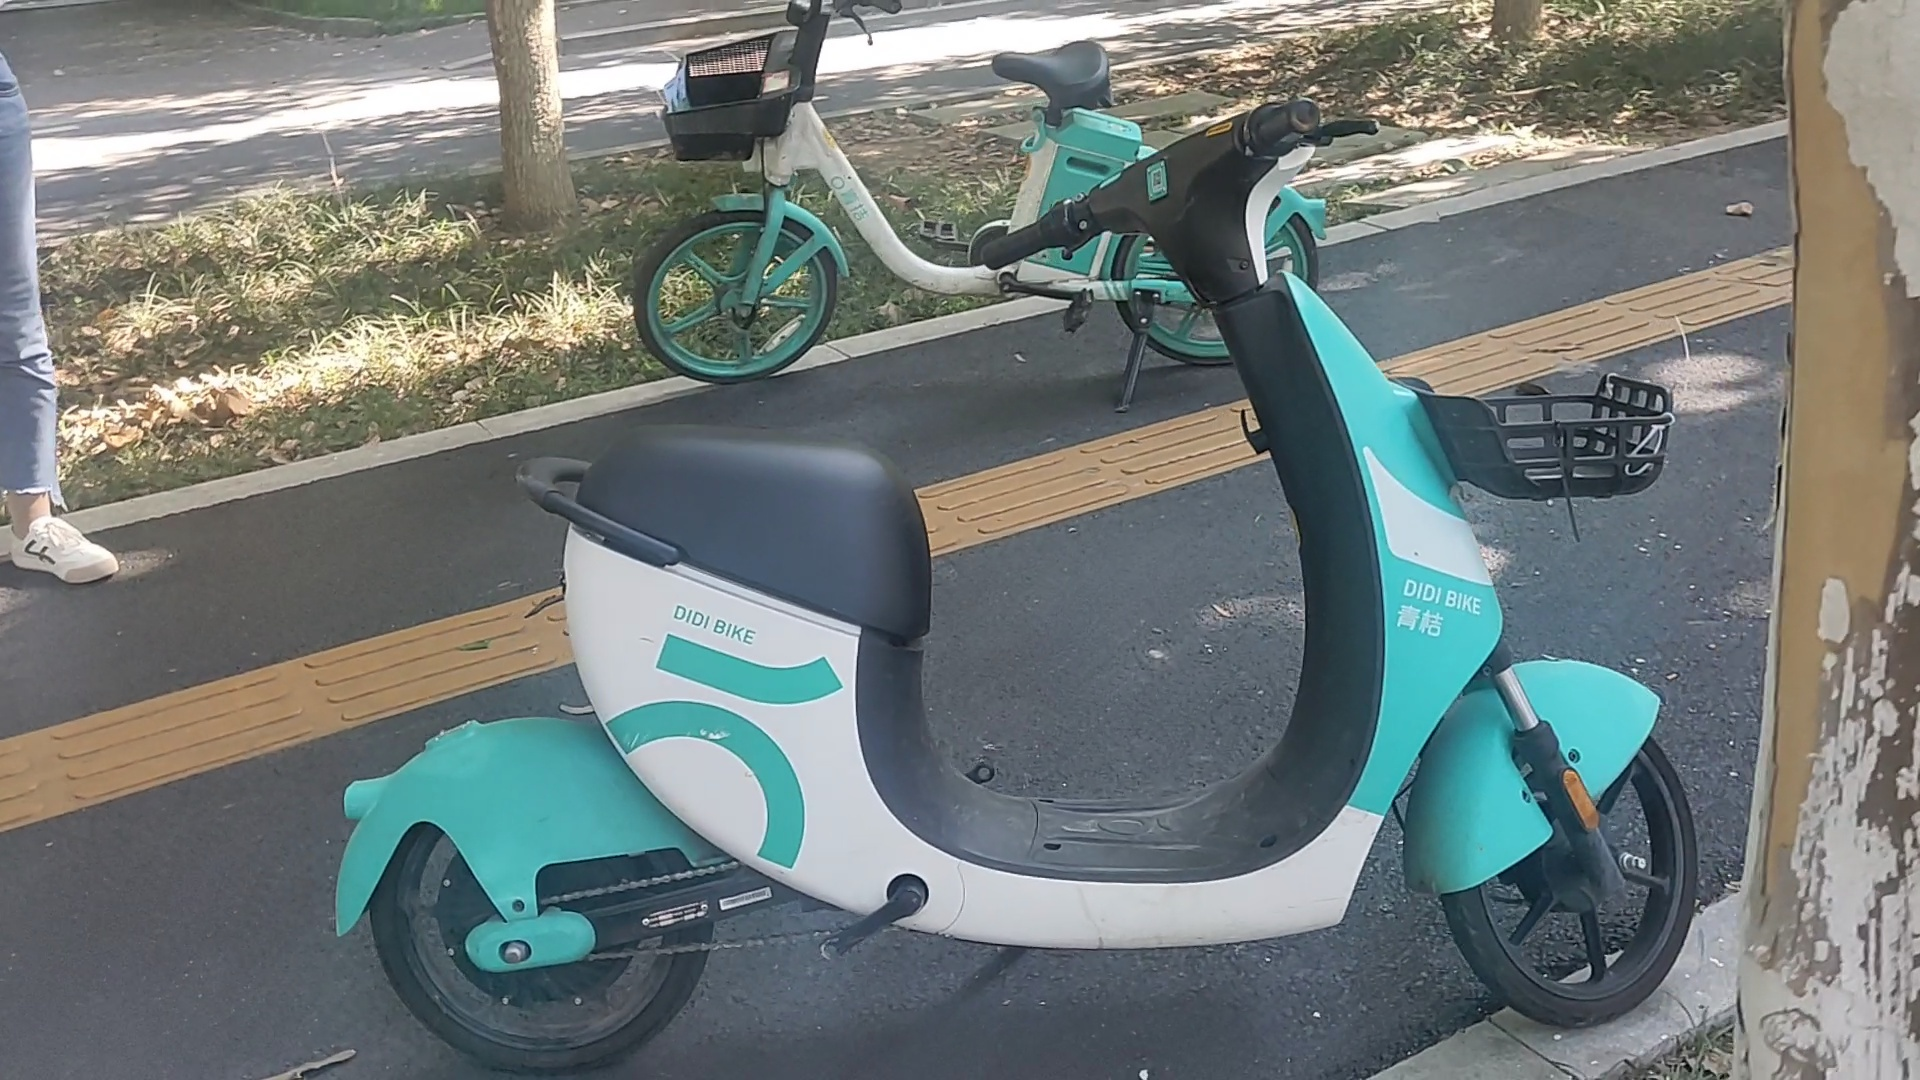non-vehicle: (324, 78, 1705, 1071), (638, 0, 1341, 396)
